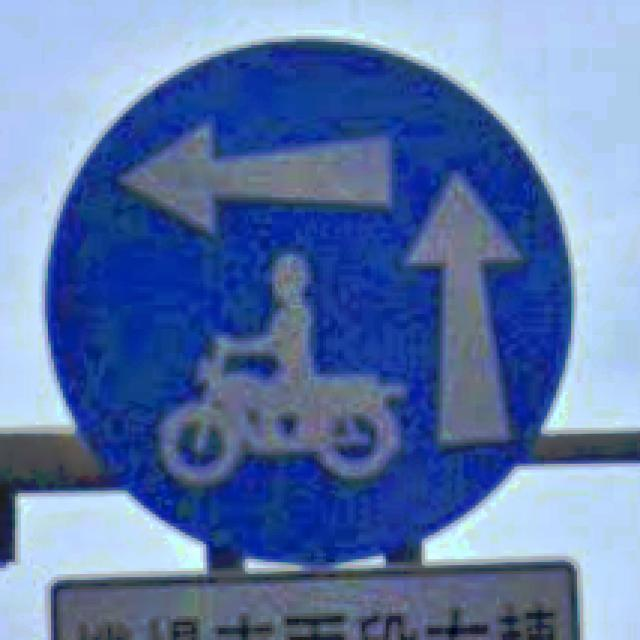twostageturn: (48, 39, 571, 565)
